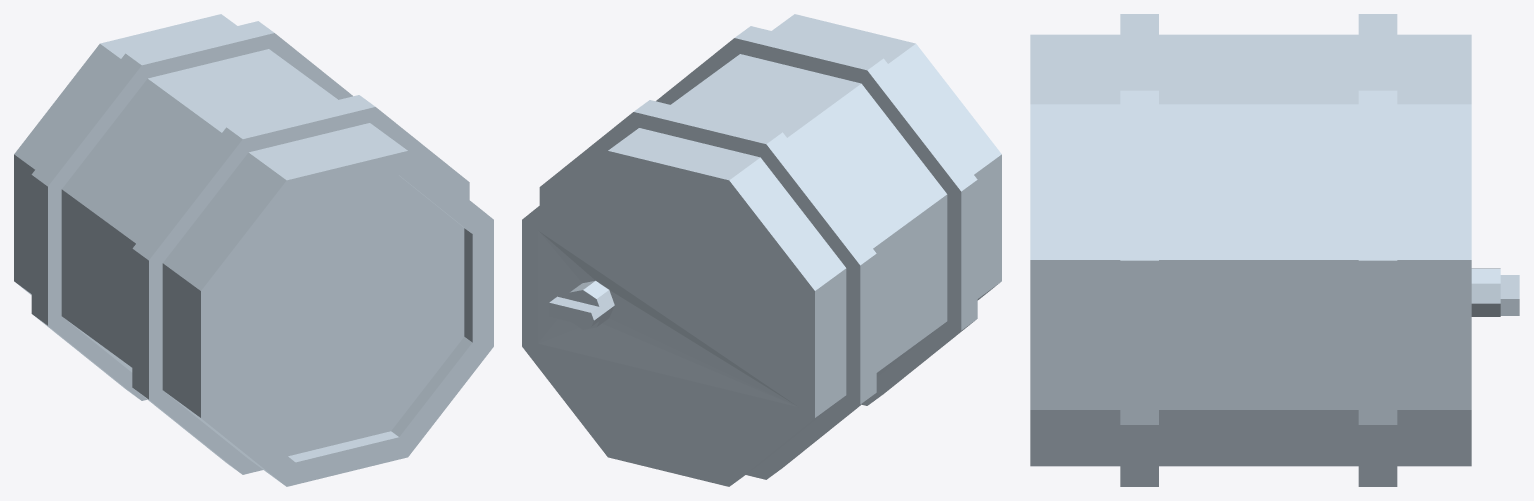
Rendered from boiler_visual.obj.
3 views of the same model, side by side, from view 1: azimuth 30°, elevation 25°; view 2: azimuth 150°, elevation 25°; view 3: azimuth 270°, elevation 25° (orthographic). The views are drawn at different scales.
Visible parts, largest first — view 1: barrel_ID9; view 2: barrel_ID9; view 3: barrel_ID9.
Part boxes in pixels (box(x1,y1,x2,y2)): barrel_ID9: box(14, 14, 493, 486); barrel_ID9: box(522, 14, 1001, 486); barrel_ID9: box(1030, 14, 1519, 486).
Size of the model in its own units: 0.6789 by 0.6789 by 0.76.
